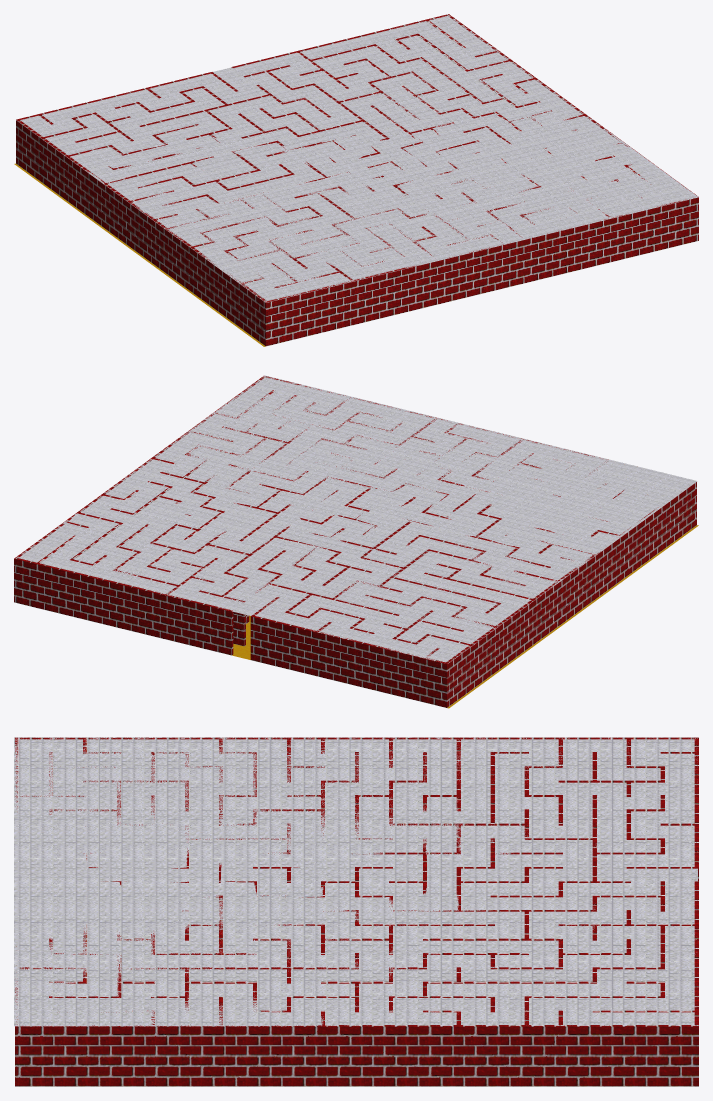
The model's file is Maze1.dae.
3 renders of one model, top to bottom at view 1: azimuth 30°, elevation 25°; view 2: azimuth 150°, elevation 25°; view 3: azimuth 270°, elevation 25°, orthographic. The views are drawn at different scales.
Parts seen in each view (by area): view 1: Plane, Curve_001, Plane_022; view 2: Plane, Curve_001, Plane_022; view 3: Plane, Curve_001.
Boxes of the visible parts, x1,y1,x2,y2 form: Plane: [16, 15, 698, 302]; Curve_001: [16, 14, 698, 346]; Plane_022: [14, 163, 265, 346]; Plane: [18, 375, 697, 663]; Curve_001: [14, 376, 696, 707]; Plane_022: [232, 525, 698, 708]; Plane: [14, 737, 697, 1026]; Curve_001: [15, 737, 698, 1086].
Bounding box in the file's own units: 30.13 × 30.04 × 2.9.
3 materials, 3 textured.
